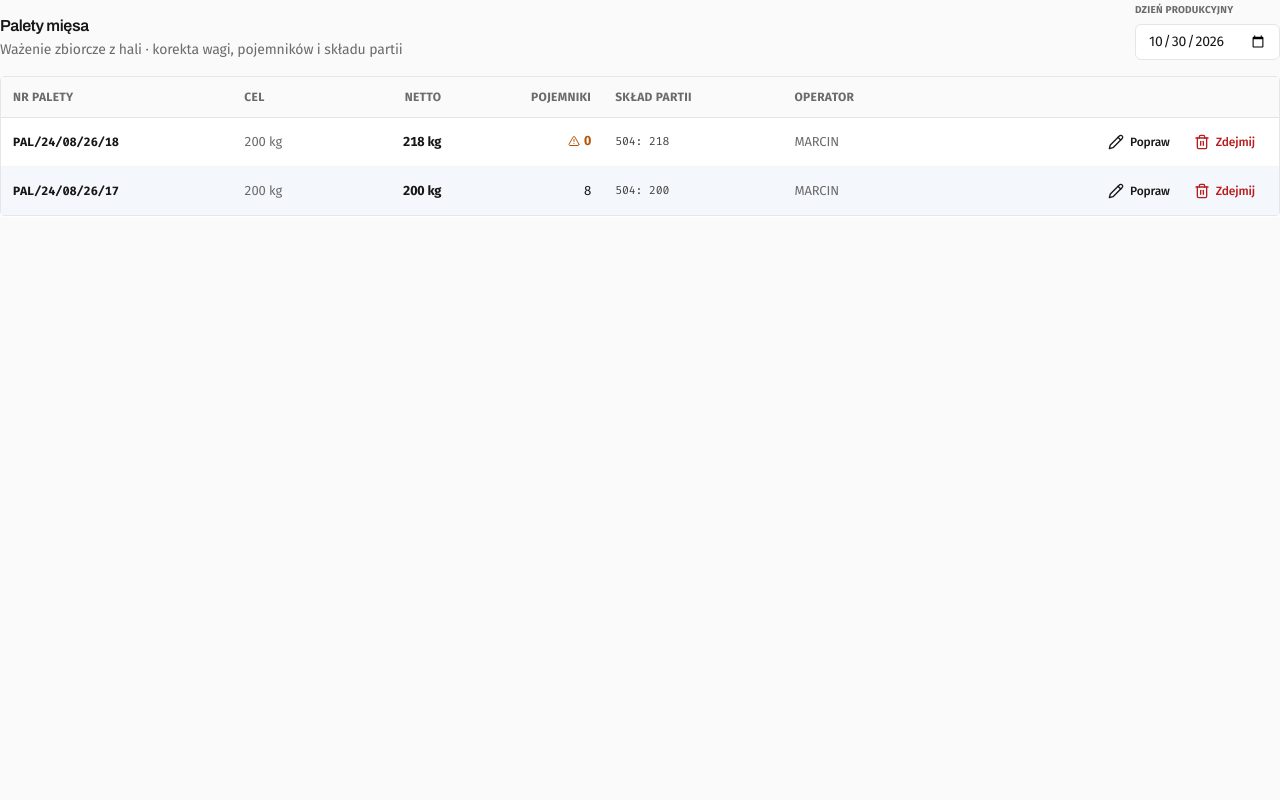
Test case: MeatPalletsPage — zdjęcie palety › bez powodu nie da się zdjąć palety
The width and height of the screenshot is (1280, 800).
Click the button "Zdejmij" in the row of "PAL/24/08/26/18": (1224, 142) [1182,126,1267,158]
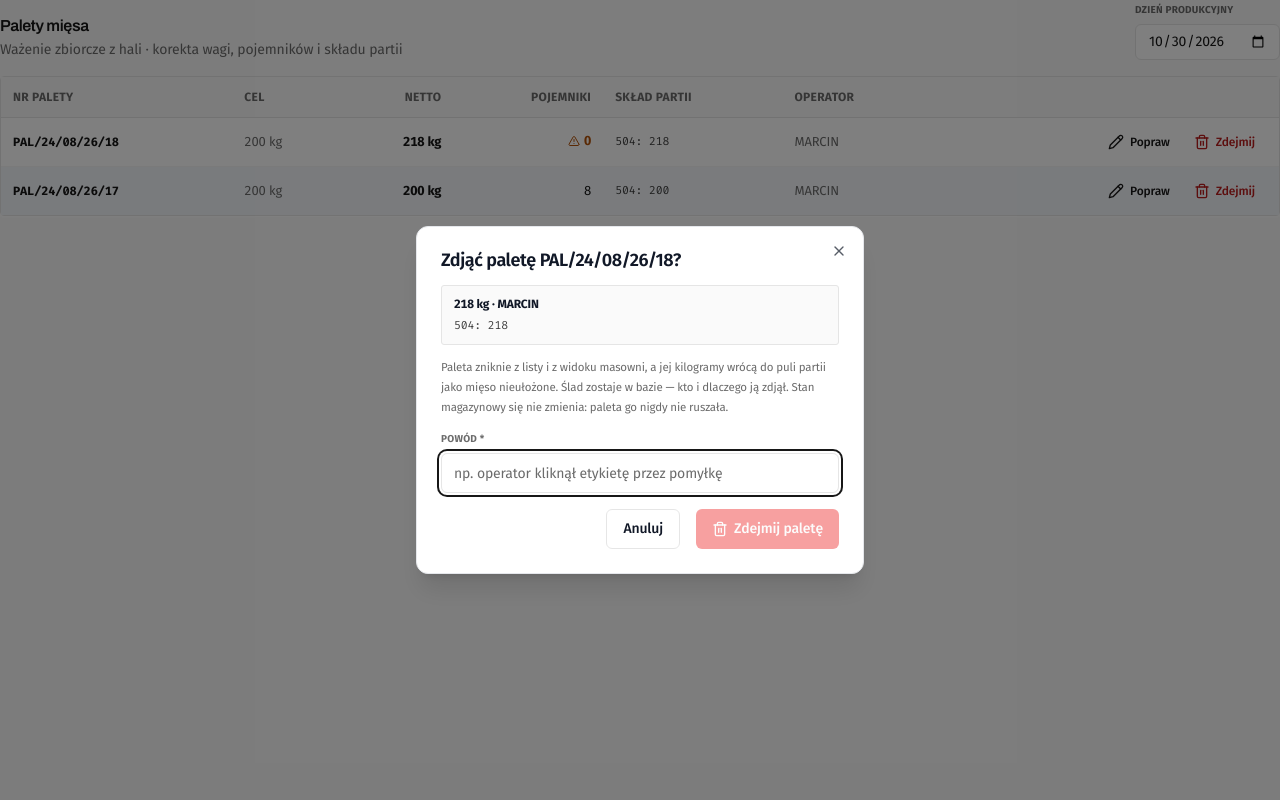
Check: the button "Zdejmij paletę" is disabled, box [696,509,839,549]
